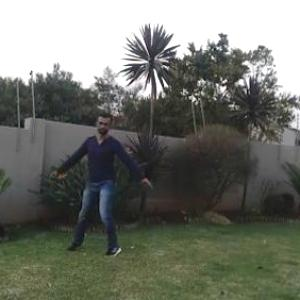land: (44, 103, 178, 266)
